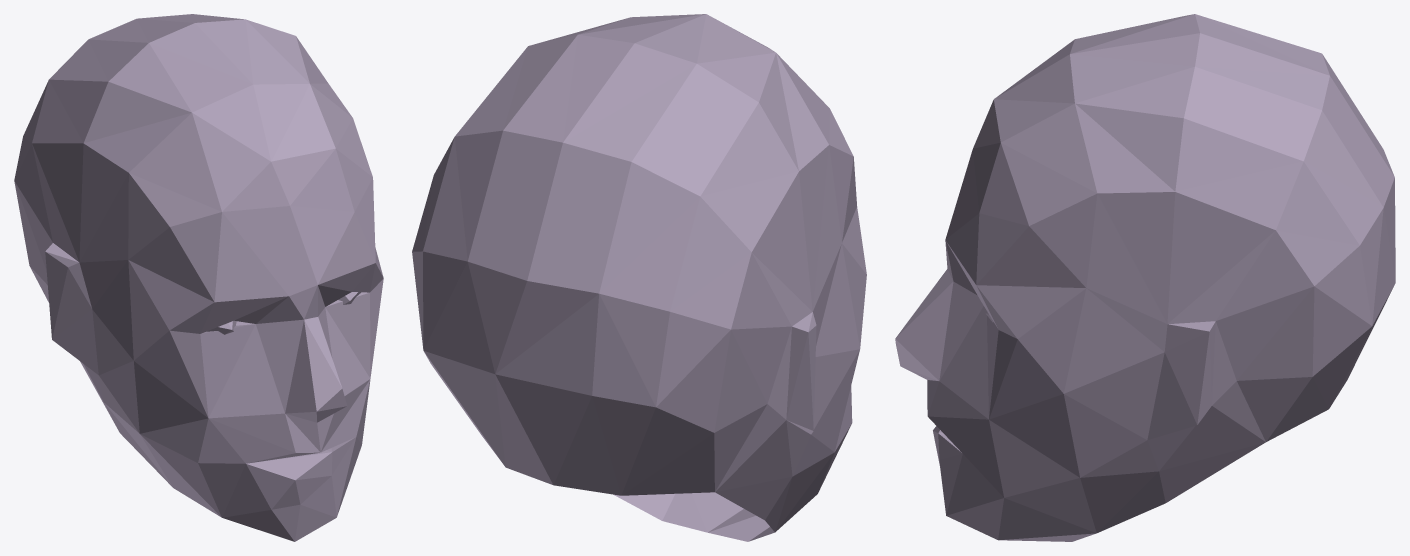
File: player-violet-noskeleton.glb
3 renders of one model, left to right at view 1: azimuth 30°, elevation 25°; view 2: azimuth 150°, elevation 25°; view 3: azimuth 270°, elevation 25°, orthographic. The views are drawn at different scales.
Parts seen in each view (by area): view 1: polySurface26; view 2: polySurface26; view 3: polySurface26.
Boxes of the visible parts, left/top/right/bottom form: polySurface26: left=14, top=14, right=383, bottom=541; polySurface26: left=412, top=14, right=866, bottom=541; polySurface26: left=895, top=14, right=1395, bottom=541.
Size of the model in its own units: 4.17 by 6.04 by 5.56.
